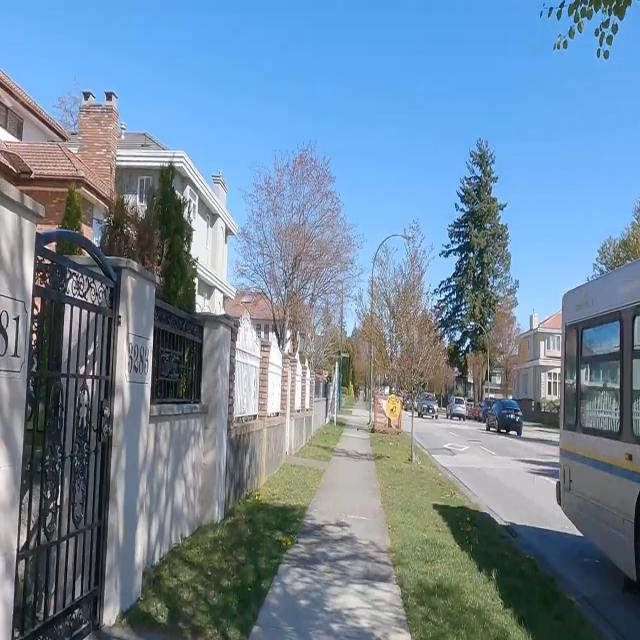Automobile: (560, 259, 639, 581), (484, 399, 522, 436), (418, 392, 437, 417), (447, 396, 465, 418)
Obstacle: (371, 435, 602, 639), (102, 258, 230, 624), (123, 426, 342, 639), (15, 231, 118, 639), (0, 175, 40, 639), (226, 408, 325, 511), (232, 315, 259, 418), (258, 339, 281, 418)
Road: (416, 421, 639, 639)
Sidewalk: (243, 391, 413, 640)
